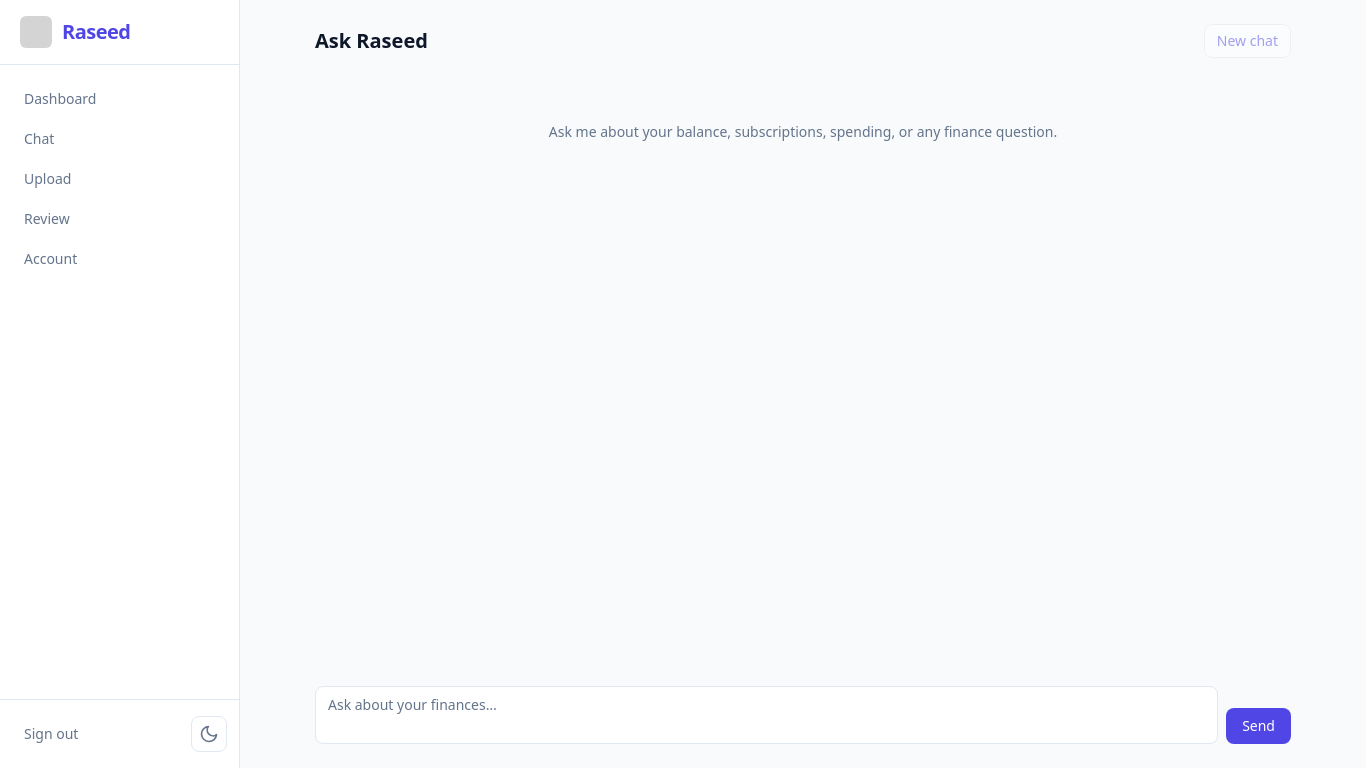
Scenario: Chat page › renders assistant response after streaming
Type "Balance?" into the text box with test id "chat-input".
click(767, 715); type("Balance?")  # box [315, 686, 1218, 744]
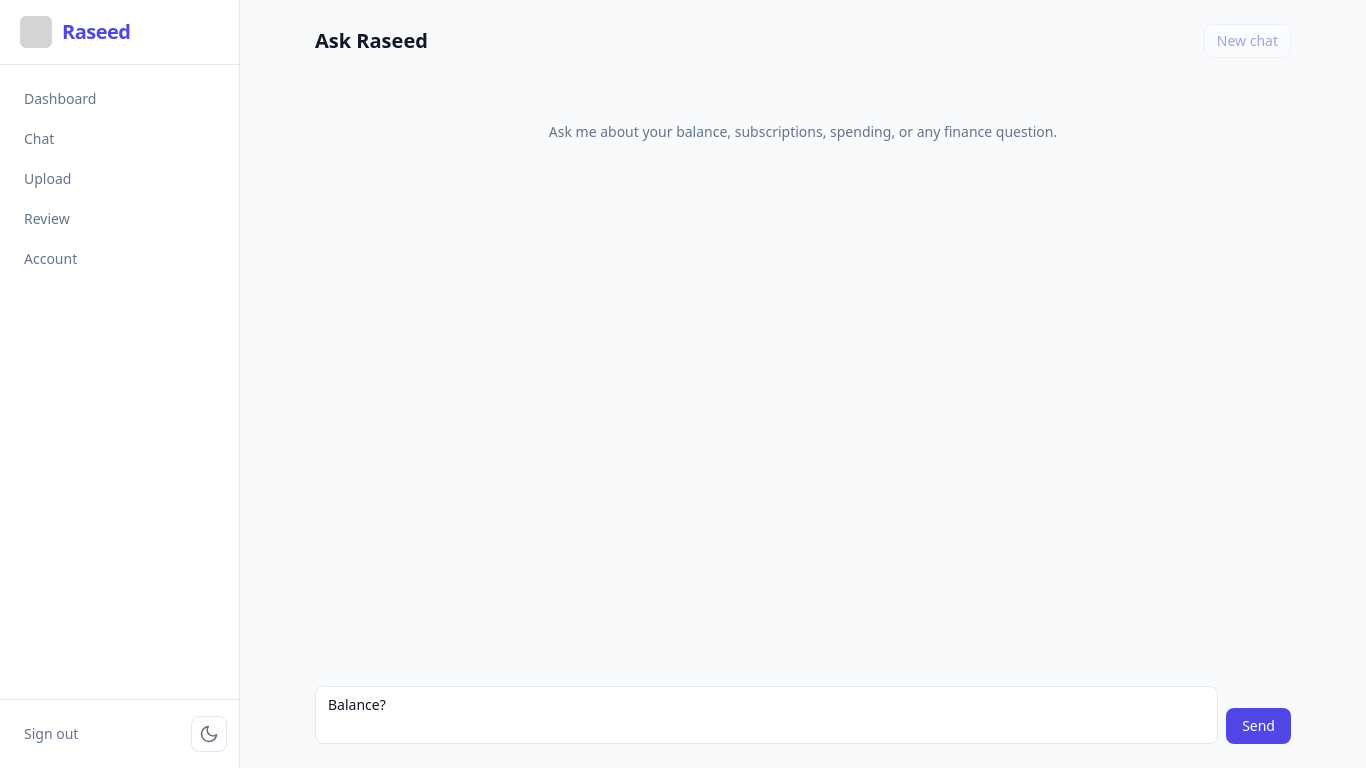
Click the button with test id "chat-send".
click(1259, 726)  # box [1226, 708, 1291, 744]
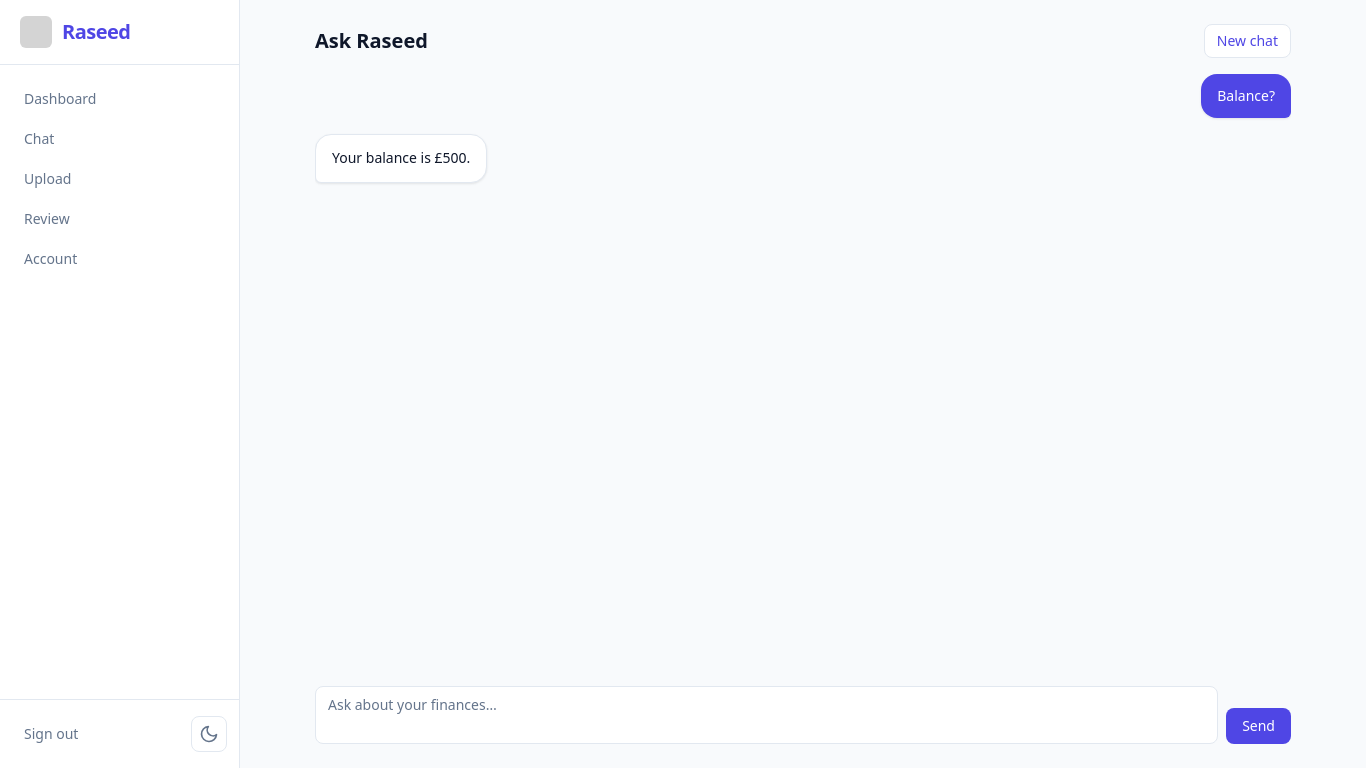
Now the text "Your balance is £500." is shown, box [332, 147, 470, 170]
